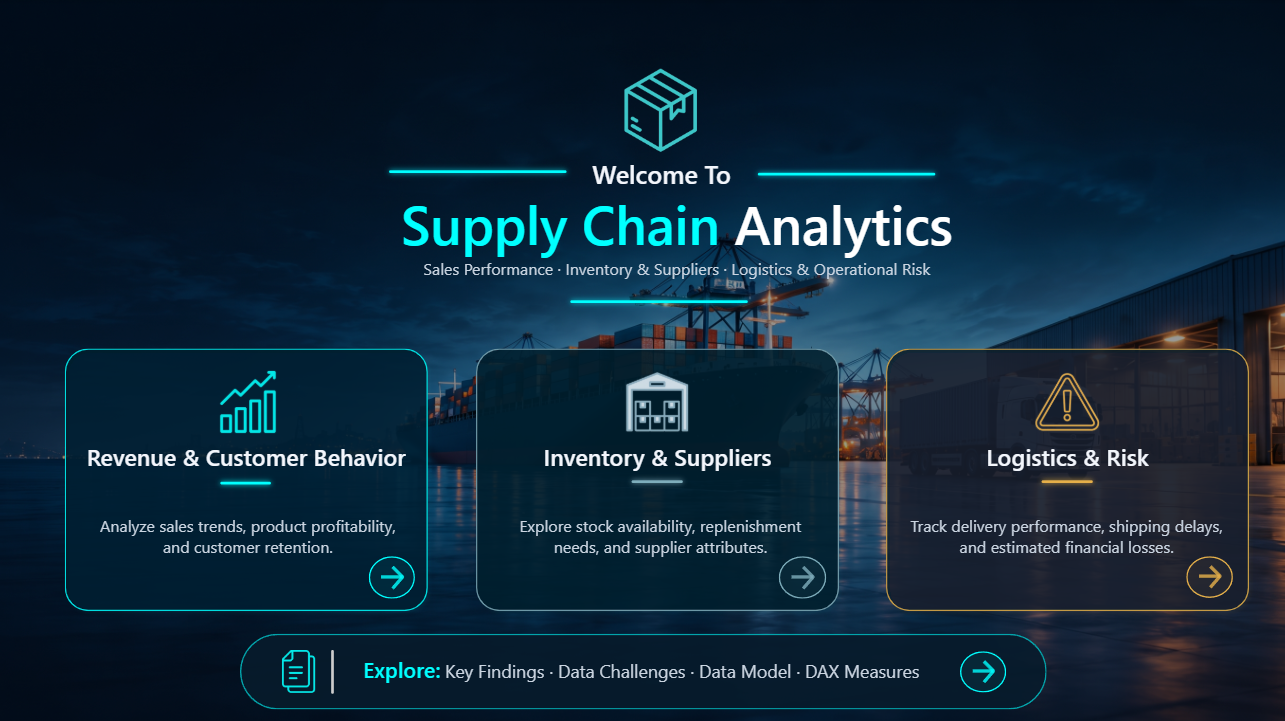

The dashboard page shown, as its layout file describes it:
{"tool":"powerbi","page":{"name":"Home","canvas":[1920,1080],"ordinal":0},"visuals":[{"type":"shape","title":"Total Sales","box":[88.6,510.7,560,410],"z":0},{"type":"image","box":[904.6,102.2,162.1,124.4],"z":1000},{"type":"textbox","box":[542.8,275.1,934.7,152.7],"z":2000},{"type":"shape","title":"Total Sales","box":[701.1,510.7,560,410],"z":3000},{"type":"shape","title":"Total Sales","box":[1313.7,510.7,560,410],"z":4000},{"type":"image","box":[908.7,552.8,145.5,95.2],"z":5000},{"type":"image","box":[1520.7,552.8,145.5,95.2],"z":6000},{"type":"textbox","box":[848.1,229.9,280.8,107.4],"z":7000},{"type":"textbox","box":[120.6,763.3,497.5,75.4],"z":8000},{"type":"shape","box":[321,660.7,91.4,121.3],"z":9000},{"type":"shape","box":[934.7,659.6,92.3,120.6],"z":10000},{"type":"shape","box":[1547.2,659.6,92.3,120.6],"z":11000},{"type":"image","box":[304.1,552.8,132.5,95.2],"z":12000},{"type":"textbox","box":[736.9,763.3,497.5,75.4],"z":13000},{"type":"textbox","box":[1343.7,763.3,497.5,75.4],"z":14000},{"type":"shape","box":[844.3,390.1,280.8,120.6],"z":15000},{"type":"shape","box":[1122.8,199.4,280.8,120.6],"z":16000},{"type":"shape","box":[573.3,195.6,280.8,120.6],"z":17000},{"type":"shape","box":[358.1,946.1,1204.2,113.1],"z":18000},{"type":"image","box":[399.4,970.5,92.3,64.1],"z":19000},{"type":"shape","box":[451.5,970.2,89.6,65.3],"z":20000},{"type":"textbox","box":[475.8,972.2,962.8,82.1],"z":21000},{"type":"actionButton","box":[1162.5,830.3,70.9,63.4],"z":22000},{"type":"actionButton","box":[1771.5,831.1,69.7,62.2],"z":23000},{"type":"actionButton","box":[550.5,830.3,69,63.4],"z":24000},{"type":"actionButton","box":[1433,972.2,69,61.6],"z":25000}]}

Visuals, with their boxes in screenshot pixels (x1, y1, x2, y2), scaled from the page's 1920x1080 canvas onto the 1285x721 screenshot:
"Total Sales" shape: bbox=[59, 341, 434, 615]
image: bbox=[605, 68, 714, 151]
textbox: bbox=[363, 184, 989, 286]
"Total Sales" shape: bbox=[469, 341, 844, 615]
"Total Sales" shape: bbox=[879, 341, 1254, 615]
image: bbox=[608, 369, 706, 433]
image: bbox=[1018, 369, 1115, 433]
textbox: bbox=[568, 153, 756, 225]
textbox: bbox=[81, 510, 414, 560]
shape: bbox=[215, 441, 276, 522]
shape: bbox=[626, 440, 687, 521]
shape: bbox=[1035, 440, 1097, 521]
image: bbox=[204, 369, 292, 433]
textbox: bbox=[493, 510, 826, 560]
textbox: bbox=[899, 510, 1232, 560]
shape: bbox=[565, 260, 753, 341]
shape: bbox=[751, 133, 939, 214]
shape: bbox=[384, 131, 572, 211]
shape: bbox=[240, 632, 1046, 707]
image: bbox=[267, 648, 329, 691]
shape: bbox=[302, 648, 362, 691]
textbox: bbox=[318, 649, 963, 704]
actionButton: bbox=[778, 554, 825, 597]
actionButton: bbox=[1186, 555, 1232, 596]
actionButton: bbox=[368, 554, 415, 597]
actionButton: bbox=[959, 649, 1005, 690]
